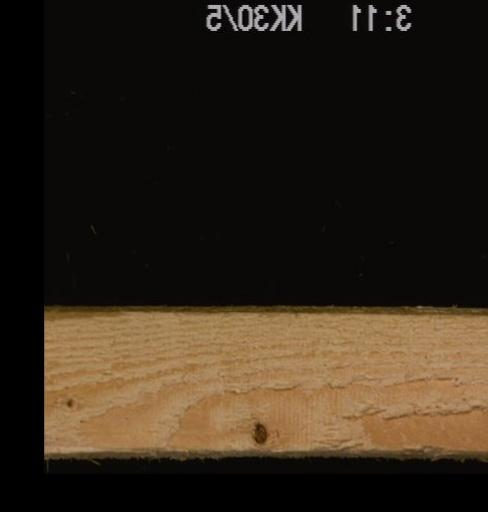dry_knot: (249, 416, 269, 445)
small_knot: (61, 393, 79, 409)
wave: (44, 305, 147, 320)
